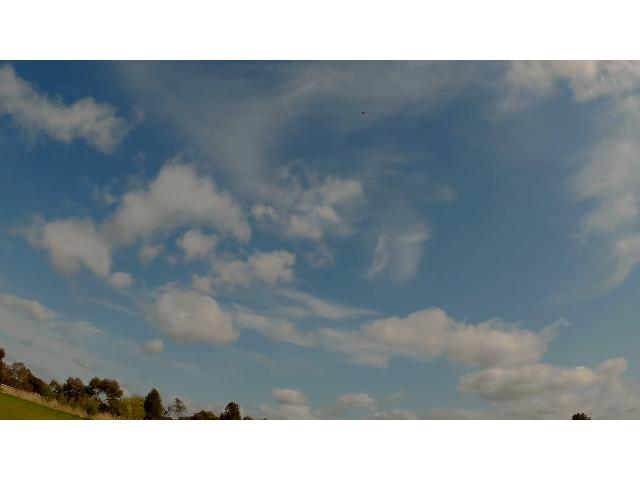Anti-Drone: (350, 106, 380, 122)
